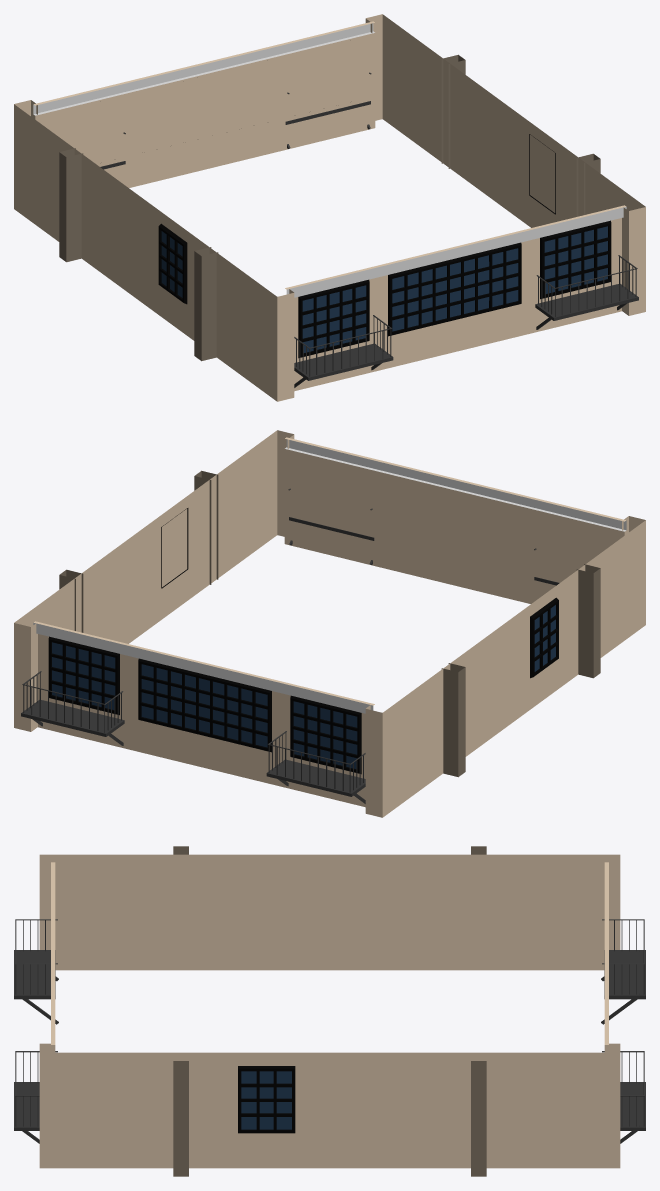
The model's file is Apt4_Floor.fbx.
The picture shows the model from 3 angles, top to bottom: view 1: azimuth 30°, elevation 25°; view 2: azimuth 150°, elevation 25°; view 3: azimuth 270°, elevation 25°; orthographic projection. The views are drawn at different scales.
Visible parts, largest first — view 1: Apt4_Floor_Main, Apt4_Floor_Frame.001, Apt4_Floor_Windows, Apt4_Floor_White, Apt4_Floor_Pillars, Apt4_Floor_Rails; view 2: Apt4_Floor_Main, Apt4_Floor_Frame.001, Apt4_Floor_Windows, Apt4_Floor_White, Apt4_Floor_Pillars, Apt4_Floor_Rails; view 3: Apt4_Floor_Main, Apt4_Floor_Rails, Apt4_Floor_Pillars, Apt4_Floor_Windows, Apt4_Floor_Frame.001.
Boxes of the visible parts, x1,y1,x2,y2 form: Apt4_Floor_Main: (14, 14, 645, 401); Apt4_Floor_Frame.001: (158, 134, 611, 358); Apt4_Floor_Windows: (161, 226, 607, 352); Apt4_Floor_White: (33, 23, 626, 297); Apt4_Floor_Pillars: (59, 54, 600, 361); Apt4_Floor_Rails: (100, 72, 638, 387); Apt4_Floor_Main: (14, 430, 645, 817); Apt4_Floor_Frame.001: (48, 508, 558, 774); Apt4_Floor_Windows: (52, 605, 555, 768); Apt4_Floor_White: (33, 439, 626, 713); Apt4_Floor_Pillars: (59, 470, 600, 777); Apt4_Floor_Rails: (21, 488, 559, 803); Apt4_Floor_Main: (39, 854, 620, 1168); Apt4_Floor_Rails: (14, 919, 645, 1143); Apt4_Floor_Pillars: (173, 846, 486, 1176); Apt4_Floor_Windows: (241, 1071, 291, 1129); Apt4_Floor_Frame.001: (238, 1066, 295, 1133).
Bounding box in the file's own units: 1293 × 326 × 1610.
